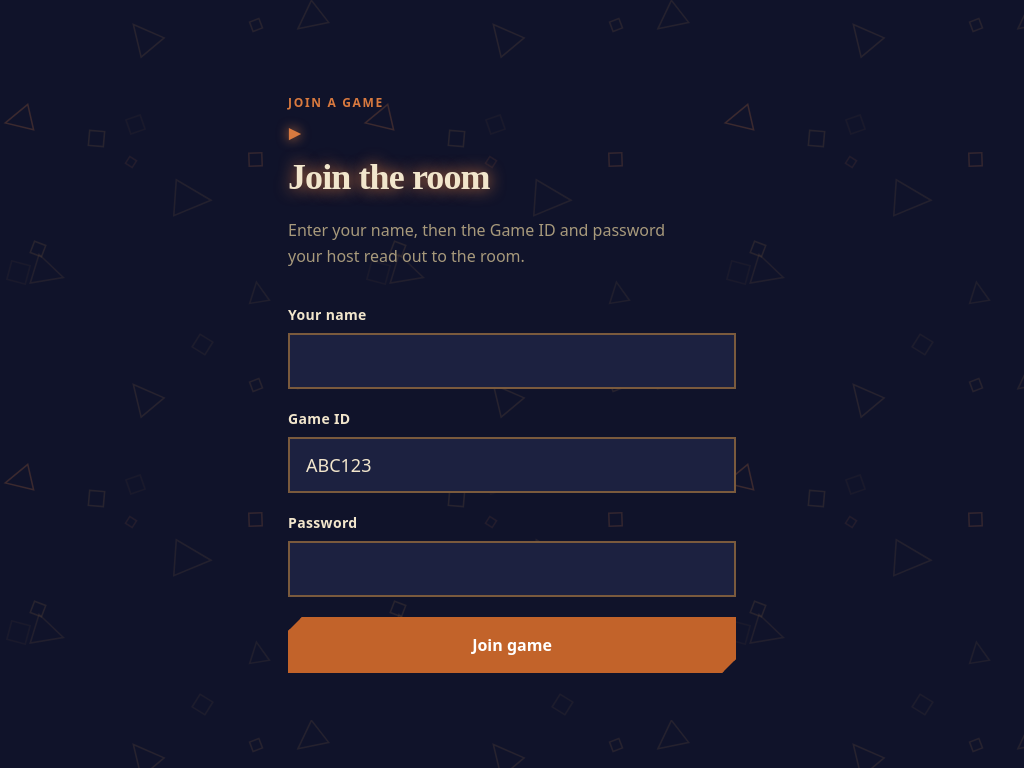
Scenario: JoinGame › surfaces the server error when joining fails
The width and height of the screenshot is (1024, 768).
In the field labelled "Your name": point(512, 361) [288,333,736,389], type "Ada"
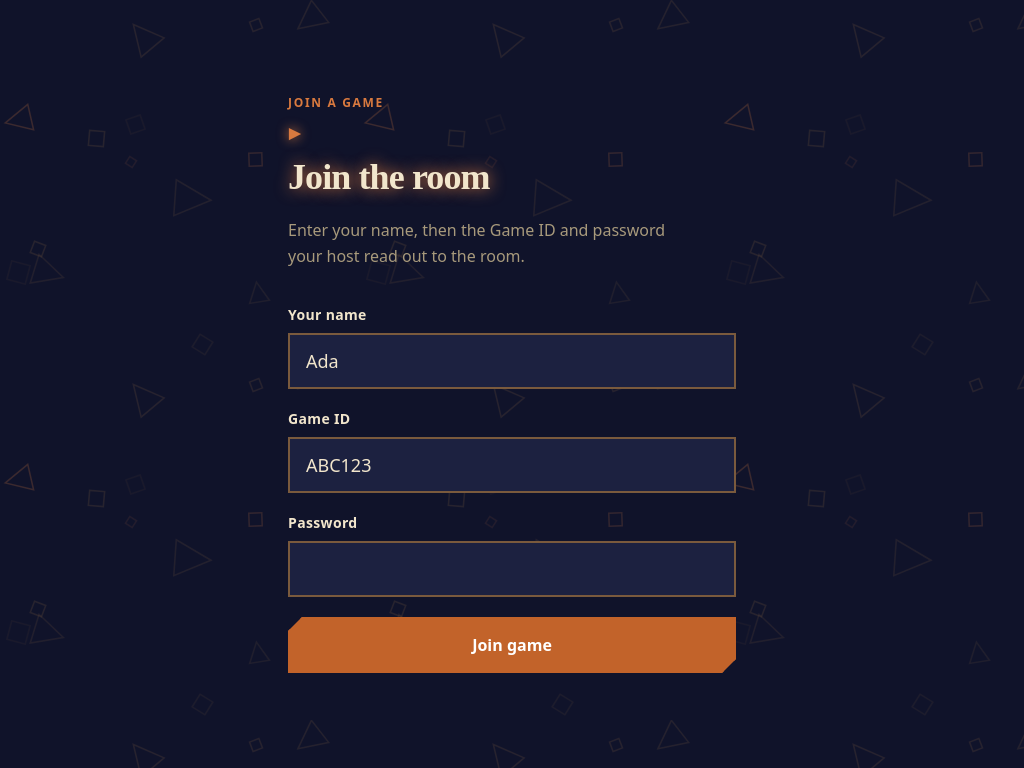
Replace the text in the field labelled "Game ID" with "abc123": point(512, 465) [288,437,736,493]
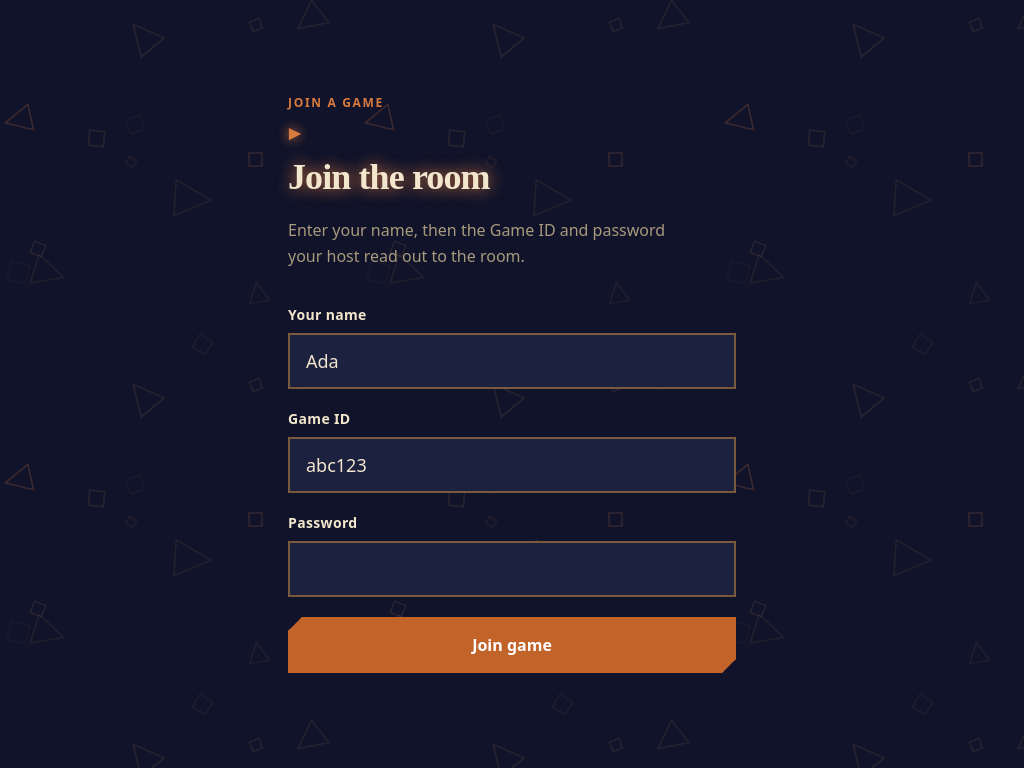
In the field labelled "Password": point(512, 569) [288,541,736,597], type "nope"
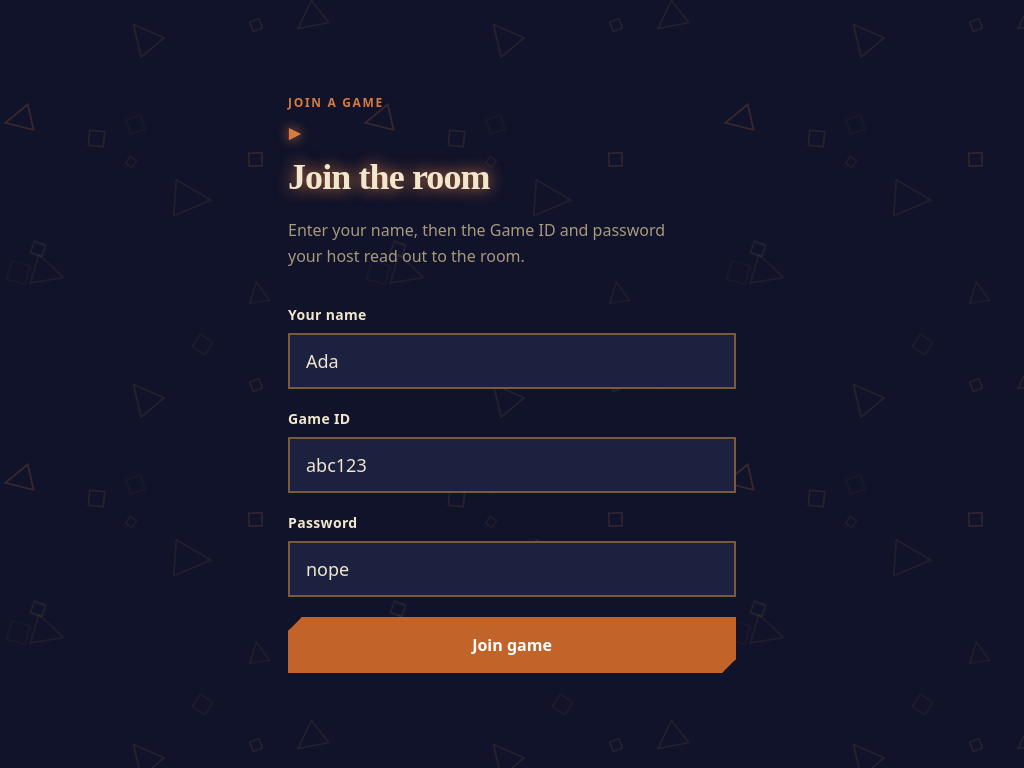
Click the button "Join game": point(512, 645) [288,617,736,673]
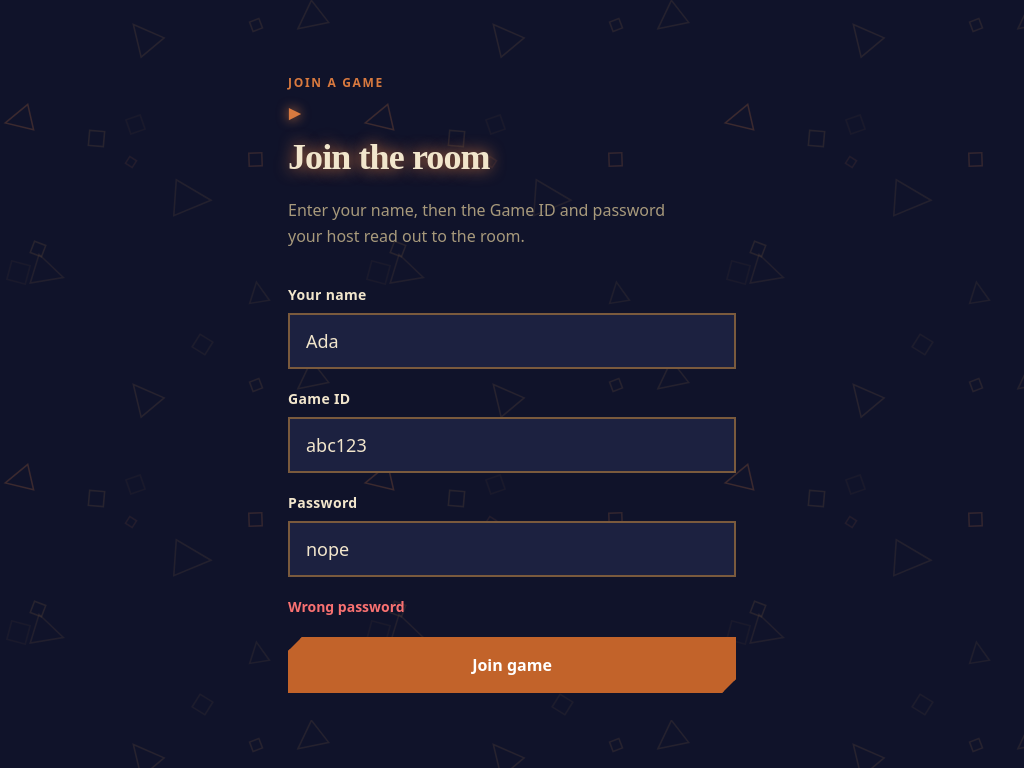
Now the text "Wrong password" is shown, box [288,597,405,616]
